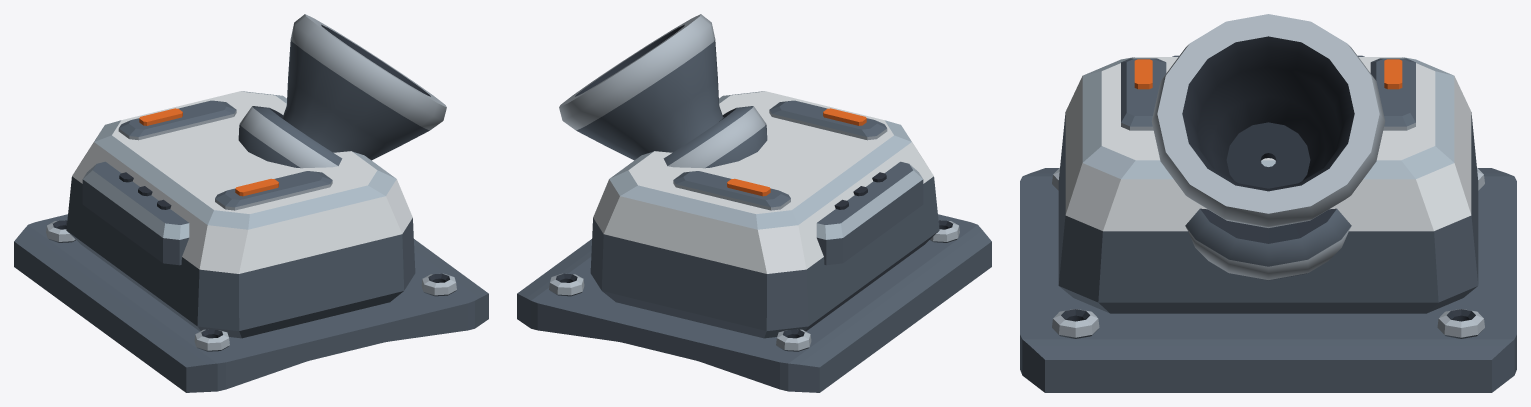
The model's file is rcs_p01.glb.
The picture shows the model from 3 angles, left to right: view 1: azimuth 30°, elevation 25°; view 2: azimuth 150°, elevation 25°; view 3: azimuth 270°, elevation 25°; orthographic projection. The views are drawn at different scales.
Parts seen in each view (by area): view 1: RCS-P01 | Carcasa y marcadores, RCS-P01 | Soporte curvo y pernos, RCS-P01 | Boquilla orientada; view 2: RCS-P01 | Carcasa y marcadores, RCS-P01 | Soporte curvo y pernos, RCS-P01 | Boquilla orientada; view 3: RCS-P01 | Carcasa y marcadores, RCS-P01 | Soporte curvo y pernos, RCS-P01 | Boquilla orientada.
Part boxes in pixels (x1=…): RCS-P01 | Carcasa y marcadores: x1=66, y1=91, x2=415, y2=338; RCS-P01 | Soporte curvo y pernos: x1=14, y1=214, x2=488, y2=392; RCS-P01 | Boquilla orientada: x1=238, y1=14, x2=446, y2=168; RCS-P01 | Carcasa y marcadores: x1=590, y1=91, x2=939, y2=338; RCS-P01 | Soporte curvo y pernos: x1=517, y1=214, x2=991, y2=392; RCS-P01 | Boquilla orientada: x1=559, y1=14, x2=767, y2=168; RCS-P01 | Carcasa y marcadores: x1=1058, y1=55, x2=1478, y2=313; RCS-P01 | Soporte curvo y pernos: x1=1020, y1=168, x2=1516, y2=392; RCS-P01 | Boquilla orientada: x1=1151, y1=14, x2=1385, y2=280.
Size of the model in its own units: 0.4406 by 0.3167 by 0.438.
